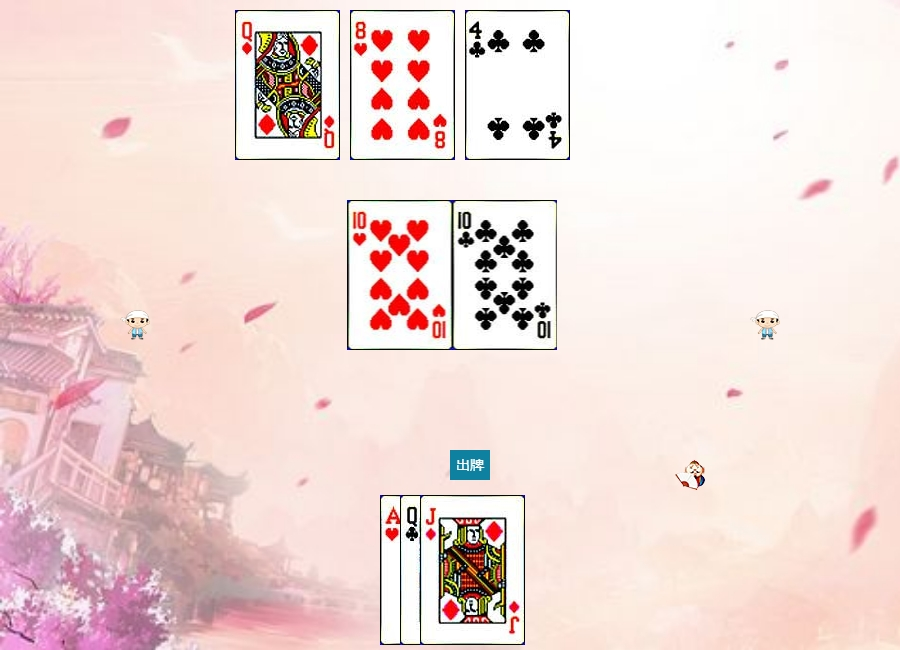10~2: (453, 200, 558, 350)
10~3: (348, 200, 453, 350)
11~1: (420, 495, 525, 645)
12~1: (235, 10, 340, 160)
12~2: (400, 495, 505, 645)
14~3: (380, 495, 485, 645)
4~2: (465, 10, 570, 160)
8~3: (350, 10, 455, 160)
